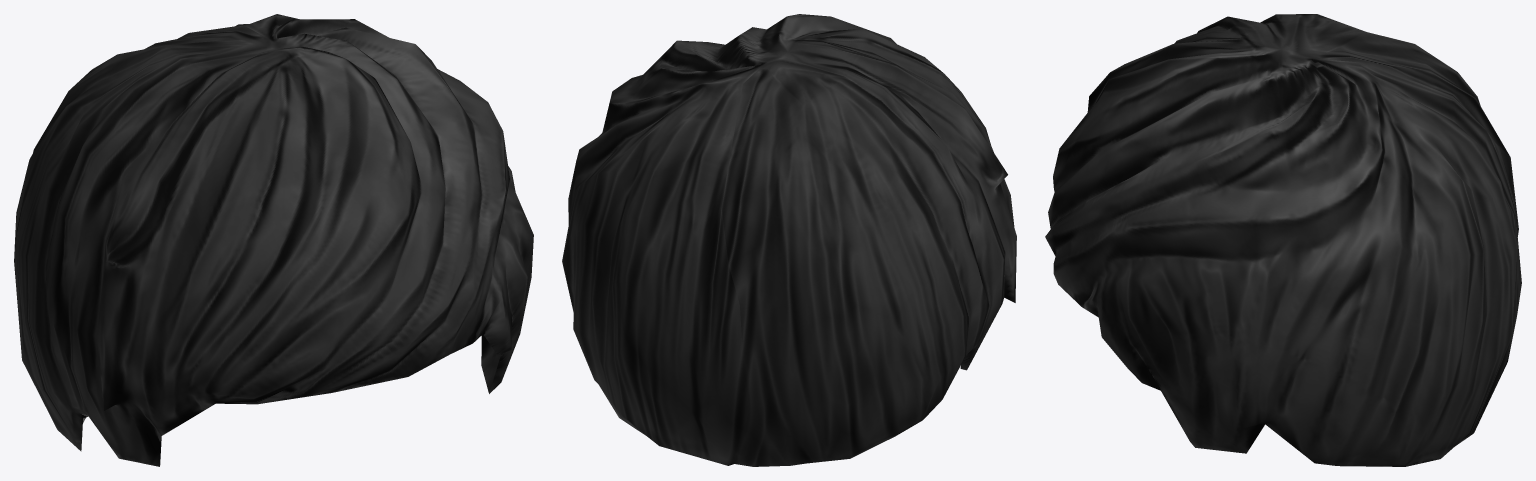
The model's file is AF_M_hair_19.fbx.
The picture shows the model from 3 angles, left to right: view 1: azimuth 30°, elevation 25°; view 2: azimuth 150°, elevation 25°; view 3: azimuth 270°, elevation 25°; orthographic projection. The views are drawn at different scales.
Visible parts, largest first — view 1: AF_M_hair_19; view 2: AF_M_hair_19; view 3: AF_M_hair_19.
Part boxes in pixels (bbox=[...]): AF_M_hair_19: bbox=[14, 14, 533, 466]; AF_M_hair_19: bbox=[562, 14, 1016, 466]; AF_M_hair_19: bbox=[1045, 14, 1521, 466].
Bounding box in the file's own units: 743 × 647 × 742.
